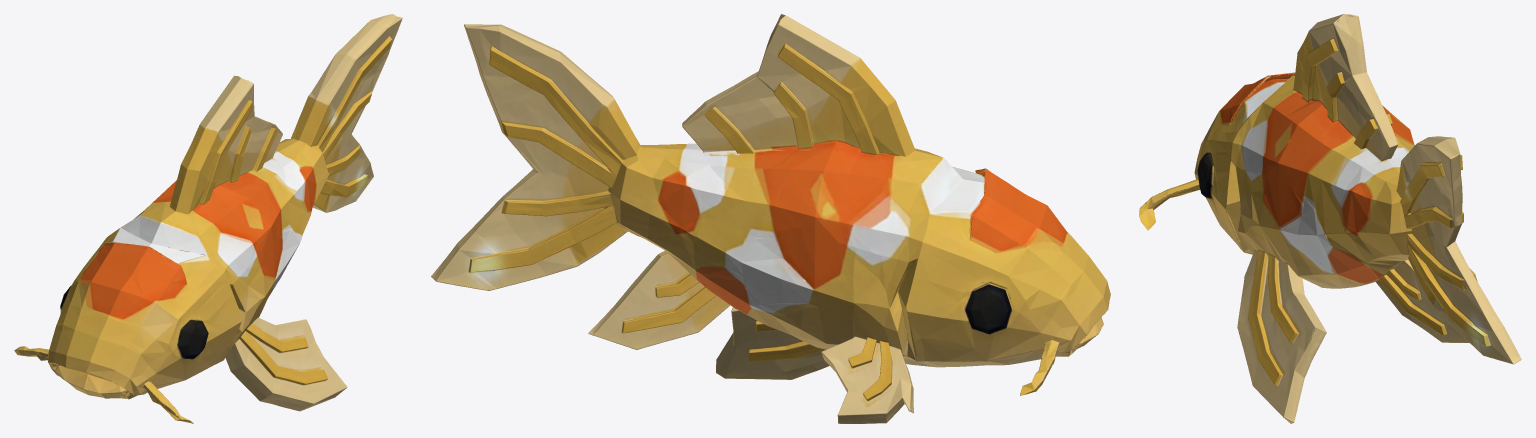
Rendered from fish_common.glb.
3 views of the same model, side by side, from view 1: azimuth 30°, elevation 25°; view 2: azimuth 150°, elevation 25°; view 3: azimuth 270°, elevation 25° (orthographic). The views are drawn at different scales.
Parts seen in each view (by area): view 1: tripo_node_fbde456c-a87d-4d11-be7a-1f5958813aa7; view 2: tripo_node_fbde456c-a87d-4d11-be7a-1f5958813aa7; view 3: tripo_node_fbde456c-a87d-4d11-be7a-1f5958813aa7.
Part boxes in pixels (<box>): tripo_node_fbde456c-a87d-4d11-be7a-1f5958813aa7: <box>14,14,402,423</box>; tripo_node_fbde456c-a87d-4d11-be7a-1f5958813aa7: <box>431,14,1110,423</box>; tripo_node_fbde456c-a87d-4d11-be7a-1f5958813aa7: <box>1139,14,1521,423</box>.
Bounding box in the file's own units: 0.9788 × 0.7079 × 0.6626.
1 material, 1 textured.
